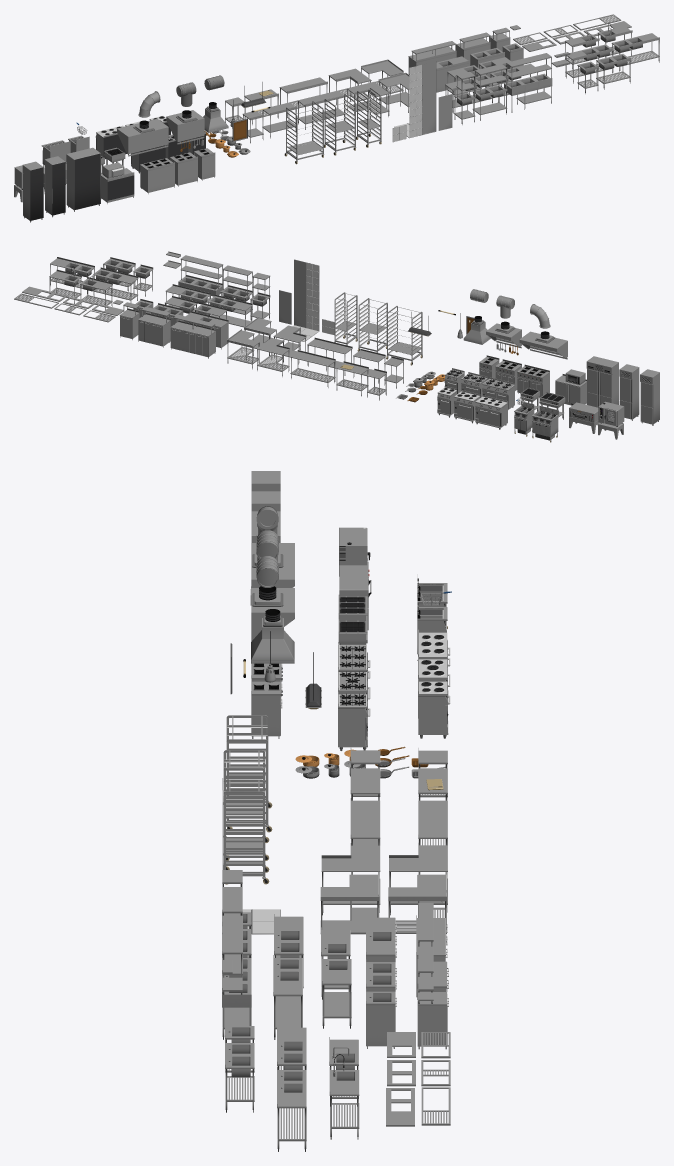
Rendered from Commercial kitchen assets 3D.fbx.
3 renders of one model, top to bottom at view 1: azimuth 30°, elevation 25°; view 2: azimuth 150°, elevation 25°; view 3: azimuth 270°, elevation 25°, orthographic. The views are drawn at different scales.
Parts seen in each view (by area): view 1: Fridge double tall, Extractor 150 A, Fridge single tall L, Fridge single tall R, Gas range 100 cabinet, Utility sink triple 150 A, Wall stainless steel panel 50x250, Wall tiled 50x250, Extractor 100 A, Rack mid, Rack wide, Fridge short 2 doors (+38 smaller); view 2: Prep cabinet 150, Prep cabinet 100, Wall tiled 50x250, Wall stainless steel panel 50x250, Utility sink double plus 150 L B, Prep table 150 B, Extractor 150 A, Gas range 100 cabinet, Deep Fryer Station 75, Rack wide, Rack slim, Prep table corner B internal (+48 smaller); view 3: Rack slim, Prep table corner A internal, Utility sink double plus 150 R A, Utility sink double plus 150 R B, Rack wide, Prep table corner B internal, Extractor hood, Utility sink single plus 100 R A, Prep table corner A, Electric Range w oven 50, Utility sink double 100 B, Gas range w oven 50 (+19 smaller).
Part boxes in pixels (x1,y1,x2,y2): Fridge double tall: (66, 147, 100, 211); Extractor 150 A: (117, 119, 168, 154); Fridge single tall L: (44, 156, 65, 217); Fridge single tall R: (22, 161, 43, 222); Gas range 100 cabinet: (140, 158, 174, 193); Utility sink triple 150 A: (504, 73, 552, 112); Wall stainless steel panel 50x250: (423, 61, 436, 134); Wall tiled 50x250: (409, 64, 422, 137); Extractor 100 A: (166, 110, 204, 141); Rack mid: (324, 94, 356, 155); Rack wide: (284, 101, 324, 164); Fridge short 2 doors: (101, 168, 134, 203); Prep cabinet 150: (170, 320, 215, 358); Prep cabinet 100: (138, 313, 170, 347); Wall tiled 50x250: (306, 262, 319, 330); Wall stainless steel panel 50x250: (294, 259, 306, 327); Utility sink double plus 150 L B: (93, 267, 138, 302); Prep table 150 B: (290, 350, 335, 387); Extractor 150 A: (519, 331, 567, 358); Gas range 100 cabinet: (517, 364, 549, 397); Deep Fryer Station 75: (532, 405, 558, 442); Rack wide: (386, 306, 422, 365); Rack slim: (334, 292, 357, 345); Prep table corner B internal: (227, 329, 259, 369); Rack slim: (223, 779, 269, 884); Prep table corner A internal: (320, 872, 379, 934); Utility sink double plus 150 R A: (273, 955, 302, 1039); Utility sink double plus 150 R B: (277, 1067, 306, 1151); Rack wide: (226, 715, 272, 832); Prep table corner B internal: (388, 872, 446, 943); Extractor hood: (251, 609, 294, 663); Utility sink single plus 100 R A: (322, 956, 351, 1028); Prep table corner A: (321, 843, 380, 915); Electric Range w oven 50: (418, 679, 448, 738); Utility sink double 100 B: (225, 1040, 254, 1112); Gas range w oven 50: (338, 691, 367, 750).
Bounding box in the file's own units: 23.69 × 3.95 × 3.43.
